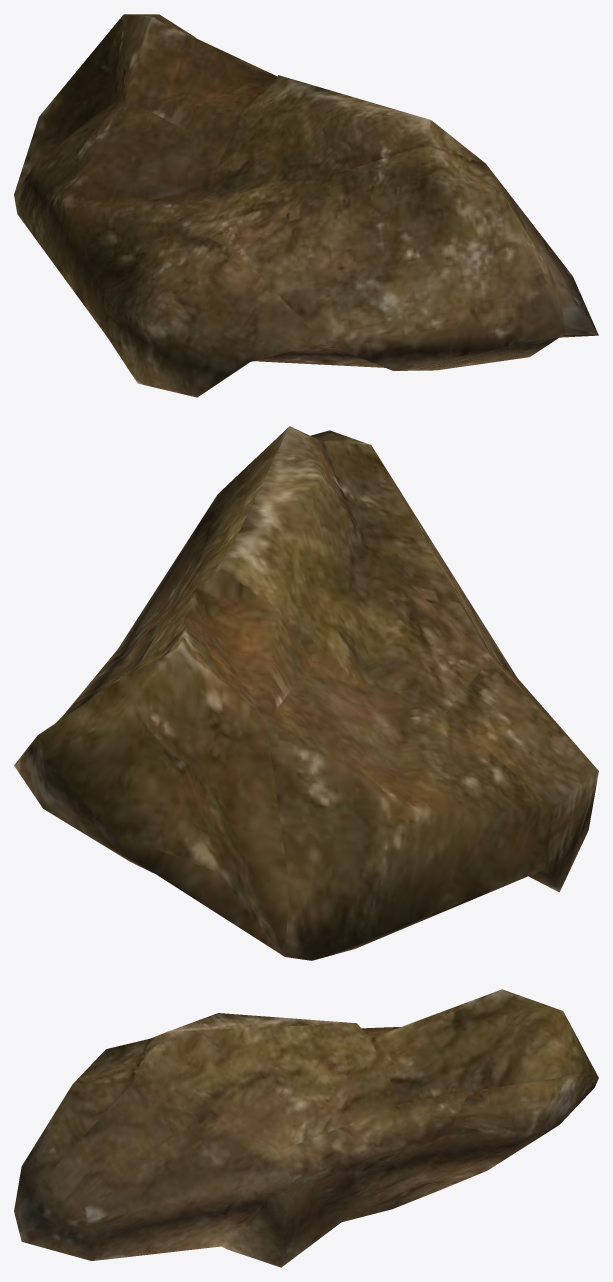
The model's file is moss-rock-lod.glb.
The picture shows the model from 3 angles, top to bottom: view 1: azimuth 30°, elevation 25°; view 2: azimuth 150°, elevation 25°; view 3: azimuth 270°, elevation 25°; orthographic projection. The views are drawn at different scales.
Parts seen in each view (by area): view 1: rock_moss_set_01_rock01; view 2: rock_moss_set_01_rock01; view 3: rock_moss_set_01_rock01.
Part boxes in pixels (x1,y1,x2,y2): rock_moss_set_01_rock01: (14,14,598,397); rock_moss_set_01_rock01: (14,426,598,960); rock_moss_set_01_rock01: (14,989,598,1267).
Size of the model in its own units: 2.21 by 1.43 by 3.36.
1 material, 1 textured.
